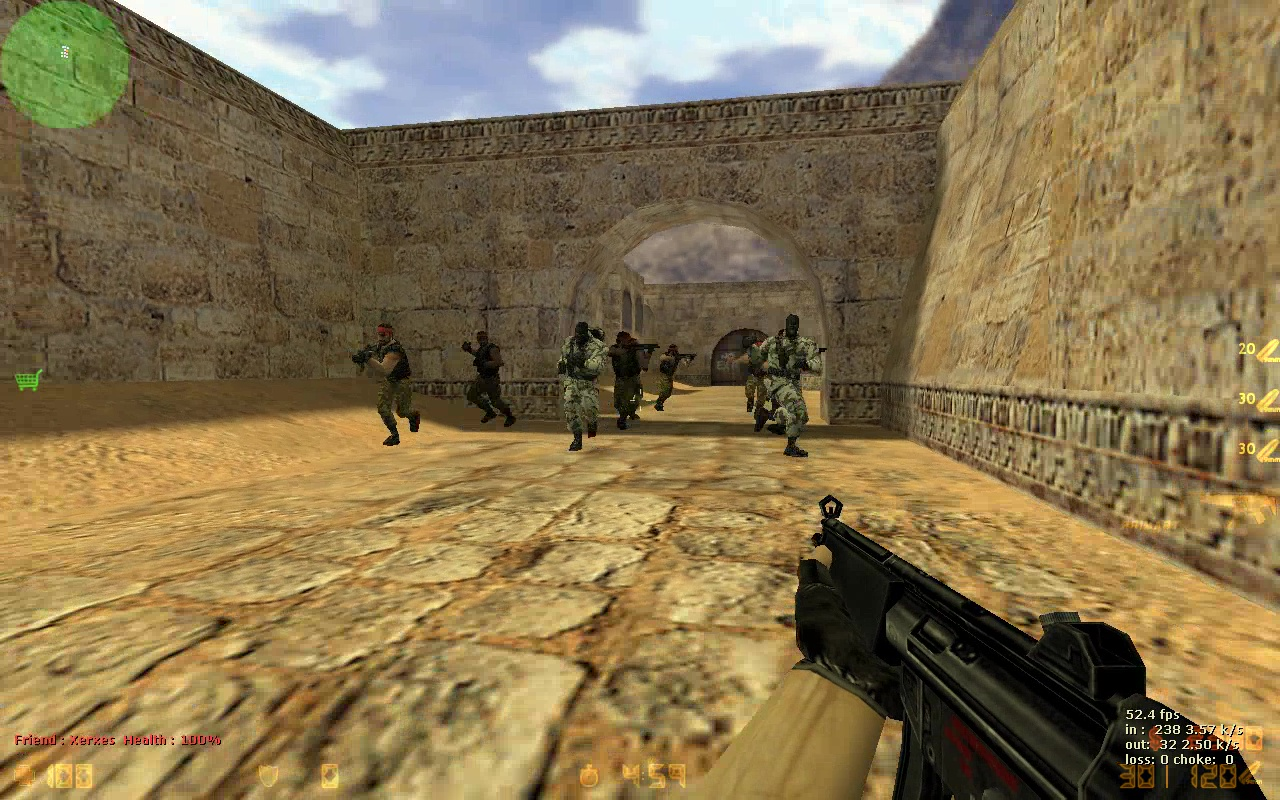terr1: (363, 326, 421, 444), (463, 333, 516, 430), (611, 336, 645, 428), (661, 344, 689, 411)
terr2: (759, 311, 823, 459), (560, 320, 610, 456)
